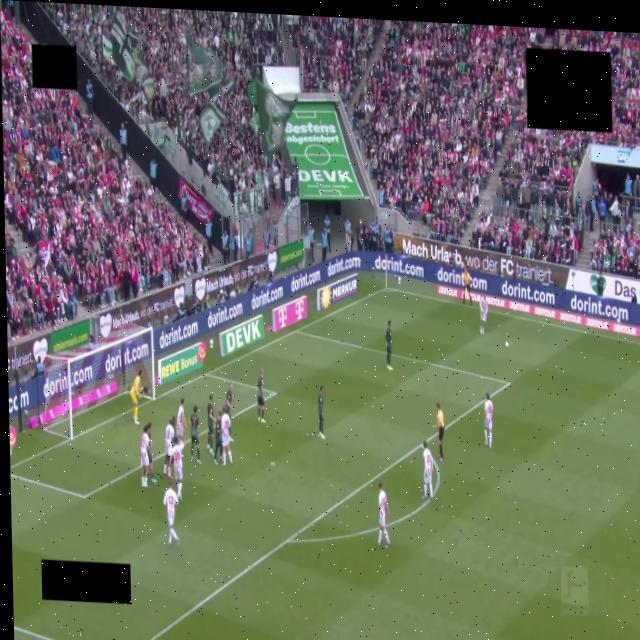ball: (505, 342, 508, 347)
player: (163, 482, 179, 547), (171, 438, 184, 500), (378, 483, 390, 547), (423, 441, 436, 500), (140, 425, 151, 488), (164, 416, 175, 477), (221, 407, 232, 466), (131, 370, 142, 424), (190, 407, 200, 464), (484, 393, 494, 449), (147, 422, 156, 483), (175, 398, 186, 443), (207, 394, 215, 454), (318, 385, 326, 439), (214, 411, 222, 465), (257, 369, 265, 422), (386, 320, 393, 371), (480, 297, 488, 335), (226, 382, 234, 415)
referee: (436, 403, 444, 461)
